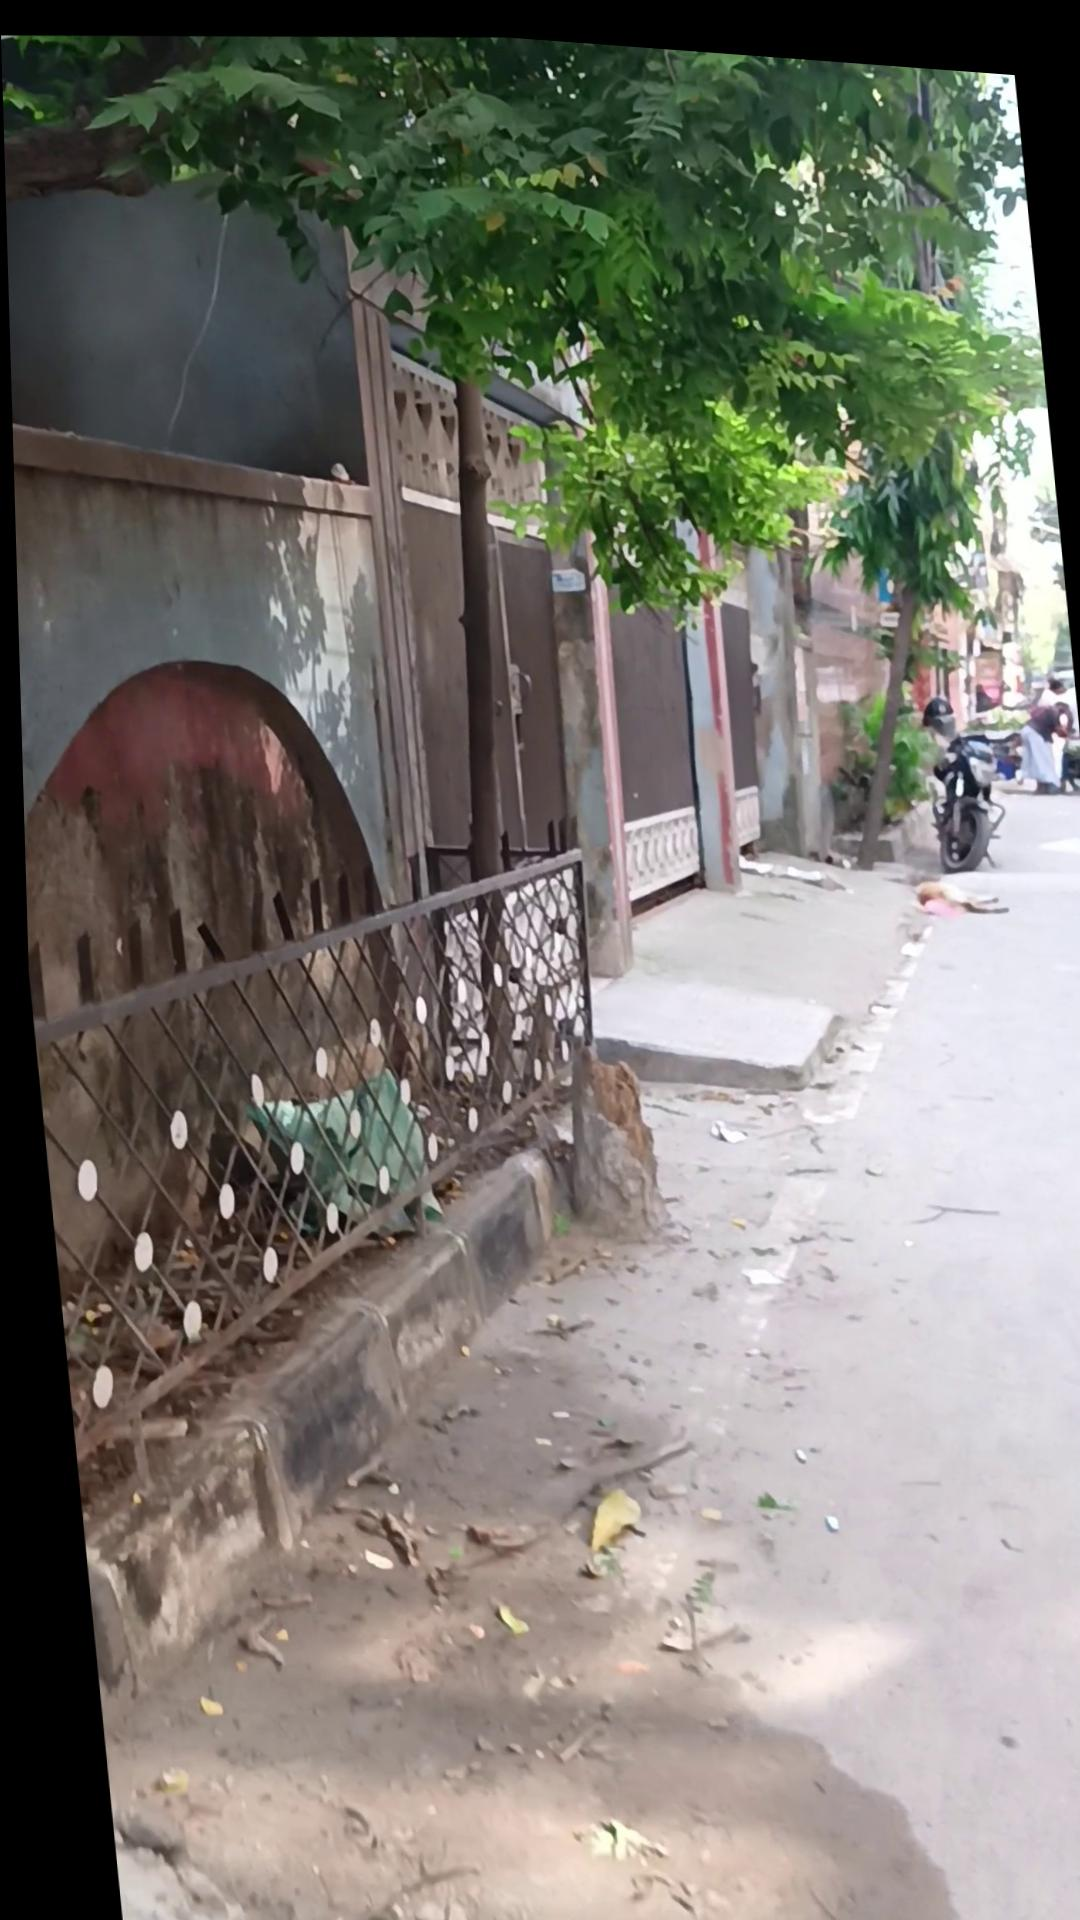Broken-road: (37, 1093, 603, 1725), (574, 939, 843, 1096)
Construction-barrier: (914, 712, 1009, 864)
Garbage: (18, 779, 1019, 1920)
Light-pole: (375, 22, 1080, 1126)
Obstacle: (9, 386, 444, 1302)
